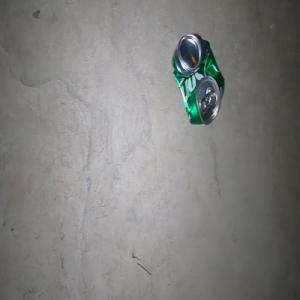SodaCan: (171, 32, 224, 125)
